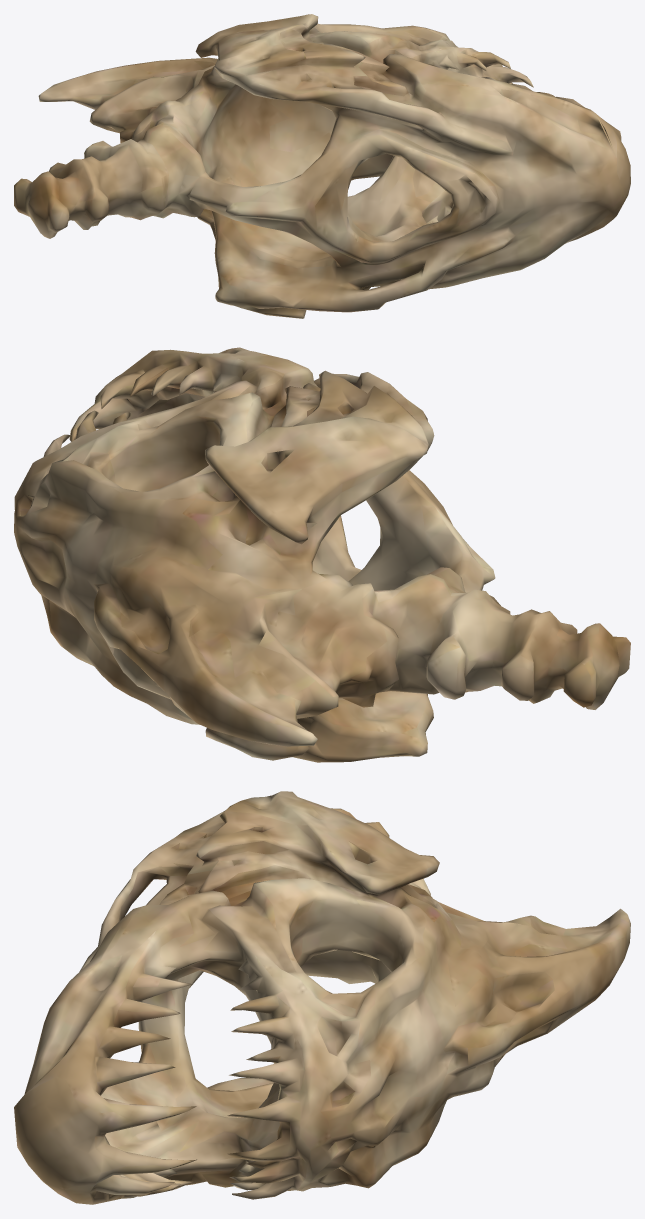
File: bone_skull_xl.glb
3 renders of one model, top to bottom at view 1: azimuth 30°, elevation 25°; view 2: azimuth 150°, elevation 25°; view 3: azimuth 270°, elevation 25°, orthographic. The views are drawn at different scales.
Parts seen in each view (by area): view 1: bone_skull_xl; view 2: bone_skull_xl; view 3: bone_skull_xl.
Part boxes in pixels (<box>): bone_skull_xl: <box>14,14,630,318</box>; bone_skull_xl: <box>14,347,630,762</box>; bone_skull_xl: <box>14,791,630,1204</box>.
Bounding box in the file's own units: 0.3 × 0.1552 × 0.2542.
Materials: 1 (1 with a texture image).
